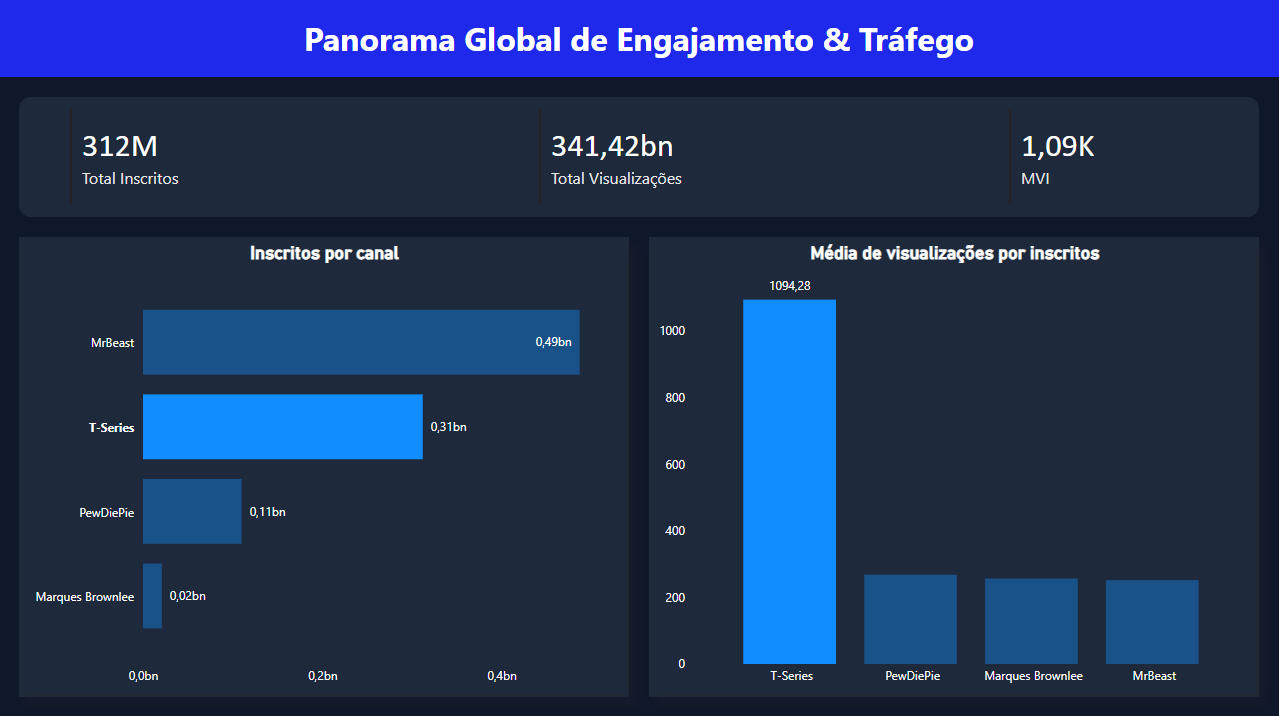

What the dashboard file says about the page in this screenshot:
{"tool":"powerbi","page":{"name":"Página 1","canvas":[1280,720],"ordinal":0},"visuals":[{"type":"cardVisual","fields":{"Data":["dataset.Total Inscritos"]},"box":[54.5,90.8,263.3,133.1],"z":0},{"type":"cardVisual","fields":{"Data":["dataset.Total Visualizações"]},"box":[523.5,90.8,263.3,133.1],"z":1000},{"type":"cardVisual","fields":{"Data":["dataset.MVI"]},"box":[992.5,90.8,263.3,133.1],"z":2000},{"type":"clusteredBarChart","title":"Inscritos por canal","fields":{"Category":["dataset.nome_canal"],"Y":["dataset.Total Inscritos"]},"box":[23.3,243.3,605,451.7],"z":3000},{"type":"clusteredColumnChart","title":"Média de visualizações por inscritos","fields":{"Category":["dataset.nome_canal"],"Y":["dataset.MVI"]},"box":[655,243.3,601.7,451.7],"z":4000},{"type":"textbox","box":[0,11.7,1280,55],"z":5000}]}

Visuals, with their boxes in screenshot pixels (x1, y1, x2, y2), scaled from the page's 1280x720 canvas onto the 1279x716 screenshot:
cardVisual - dataset.Total Inscritos: bbox=(54, 90, 318, 223)
cardVisual - dataset.Total Visualizações: bbox=(523, 90, 786, 223)
cardVisual - dataset.MVI: bbox=(992, 90, 1255, 223)
"Inscritos por canal" clusteredBarChart: bbox=(23, 242, 628, 691)
"Média de visualizações por inscritos" clusteredColumnChart: bbox=(654, 242, 1256, 691)
textbox: bbox=(0, 12, 1278, 66)
